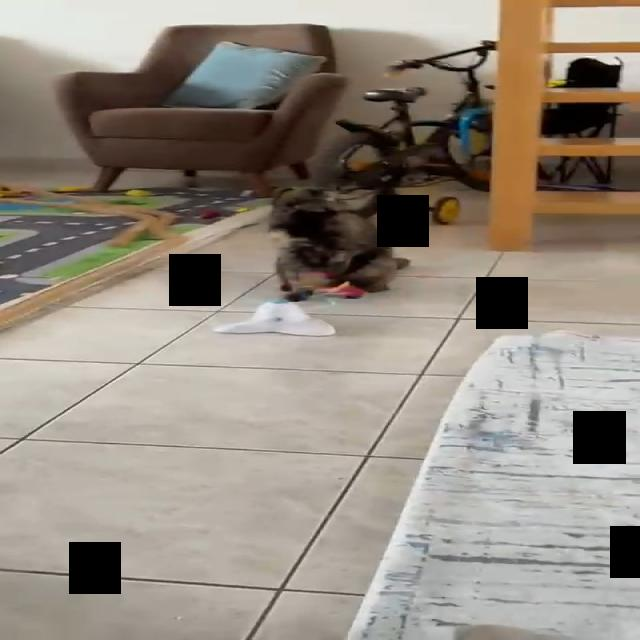authorized: (265, 184, 411, 294)
